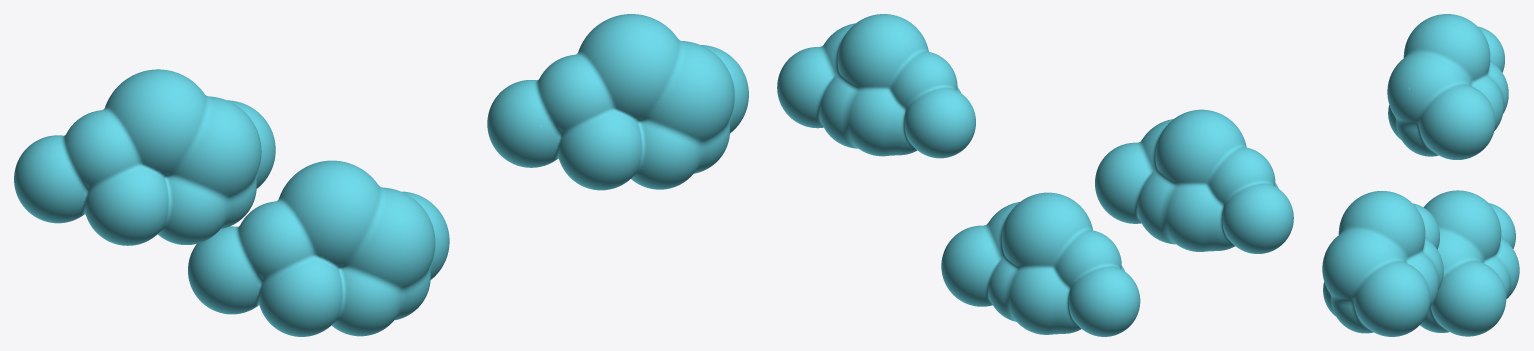
File: nube_plataforma.glb
3 renders of one model, left to right at view 1: azimuth 30°, elevation 25°; view 2: azimuth 150°, elevation 25°; view 3: azimuth 270°, elevation 25°, orthographic. The views are drawn at different scales.
Parts seen in each view (by area): view 1: Mball.041; view 2: Mball.041; view 3: Mball.041.
Part boxes in pixels (left/top/right/bottom): Mball.041: left=14, top=14, right=748, bottom=336; Mball.041: left=777, top=14, right=1293, bottom=336; Mball.041: left=1322, top=14, right=1519, bottom=336.
Bounding box in the file's own units: 5.12 × 2.17 × 1.69.
